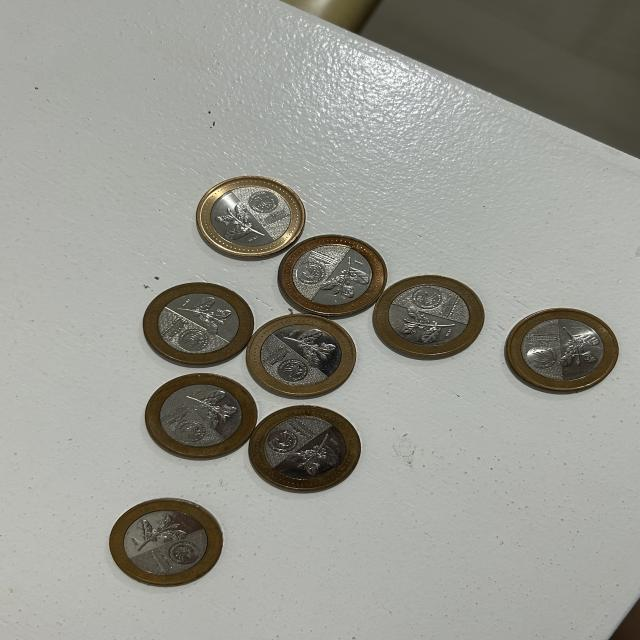20_New_Back: (276, 330, 338, 369), (398, 310, 454, 347), (176, 294, 232, 330), (188, 389, 243, 425), (218, 203, 268, 242), (558, 326, 600, 371), (292, 435, 339, 475), (321, 259, 368, 298)
